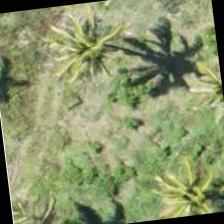Kelapa_Sawit: (60, 0, 160, 100), (8, 173, 104, 223), (152, 154, 223, 220)
